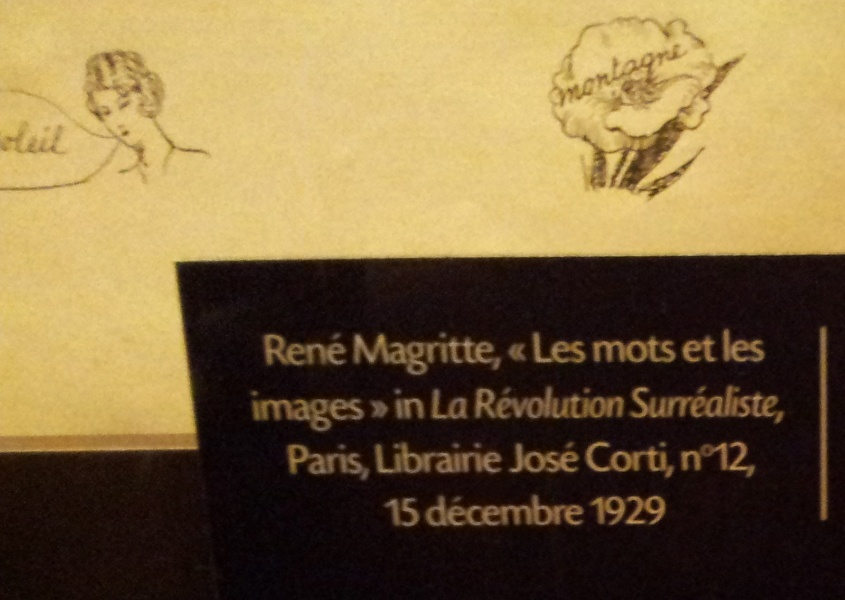text: (561, 23, 576, 124), (577, 23, 592, 124), (593, 23, 608, 124), (609, 23, 624, 124), (625, 23, 640, 124), (641, 23, 656, 124), (657, 23, 672, 124), (673, 23, 688, 124), (552, 23, 560, 124), (257, 388, 272, 441), (273, 388, 288, 441), (289, 388, 304, 441), (305, 388, 320, 441), (321, 388, 336, 441), (337, 388, 352, 441), (353, 326, 368, 377), (369, 326, 384, 377), (385, 326, 400, 377), (401, 326, 416, 377), (417, 326, 432, 377), (433, 326, 448, 377), (449, 326, 464, 377), (465, 326, 480, 377), (481, 326, 496, 377), (641, 383, 656, 428), (657, 383, 672, 428), (673, 383, 688, 428), (689, 383, 704, 428), (705, 383, 720, 428), (721, 383, 736, 428), (737, 383, 752, 428), (753, 383, 768, 428), (769, 383, 784, 428), (593, 436, 608, 479), (609, 436, 624, 479), (625, 436, 640, 479), (641, 436, 656, 479), (657, 436, 672, 479), (273, 327, 288, 368), (289, 327, 304, 368), (305, 327, 320, 368), (321, 327, 336, 368), (689, 440, 704, 481), (705, 440, 720, 481), (721, 440, 736, 481), (737, 440, 752, 481), (289, 443, 304, 482), (305, 443, 320, 482), (321, 443, 336, 482), (337, 443, 352, 482), (353, 443, 368, 482), (1, 120, 16, 159), (17, 120, 32, 159), (33, 120, 48, 159), (49, 120, 64, 159), (353, 388, 364, 441), (481, 382, 496, 420), (497, 382, 512, 420), (513, 382, 528, 420), (529, 382, 544, 420), (545, 382, 560, 420), (561, 382, 576, 420), (577, 382, 592, 420), (593, 382, 608, 420), (609, 382, 624, 420), (385, 439, 400, 476), (401, 439, 416, 476), (417, 439, 432, 476), (433, 439, 448, 476), (449, 439, 464, 476), (465, 439, 480, 476), (481, 439, 496, 476), (433, 387, 448, 423), (449, 387, 464, 423), (737, 329, 752, 365), (513, 438, 528, 474), (529, 438, 544, 474), (545, 438, 560, 474), (561, 438, 576, 474), (433, 493, 448, 529), (449, 493, 464, 529), (465, 493, 480, 529), (481, 493, 496, 529), (497, 493, 512, 529), (513, 493, 528, 529), (529, 493, 544, 529), (545, 493, 560, 529), (561, 493, 576, 529), (337, 327, 350, 368), (513, 330, 528, 365), (529, 330, 544, 365), (545, 330, 560, 365), (561, 330, 576, 365), (369, 387, 384, 421), (385, 387, 400, 421), (401, 387, 416, 421), (385, 496, 400, 530), (401, 496, 416, 530), (722, 329, 736, 365), (593, 493, 608, 526), (609, 493, 624, 526), (625, 493, 640, 526), (641, 493, 656, 526), (676, 440, 688, 481), (581, 436, 592, 479), (65, 120, 77, 159), (593, 334, 608, 365), (609, 334, 624, 365), (625, 334, 640, 365), (641, 334, 656, 365), (657, 334, 672, 365), (261, 327, 272, 368), (630, 383, 640, 428), (689, 335, 704, 364), (753, 329, 765, 365), (248, 388, 256, 441), (705, 335, 719, 364), (657, 493, 669, 526), (497, 439, 507, 476), (577, 493, 587, 529), (497, 326, 504, 377), (577, 330, 587, 365), (375, 439, 384, 476), (369, 443, 377, 482), (424, 493, 432, 529), (753, 440, 760, 481), (673, 436, 679, 479), (577, 438, 584, 474), (417, 387, 424, 421), (785, 383, 790, 428), (506, 330, 512, 365), (681, 335, 688, 364), (475, 382, 480, 420), (507, 438, 512, 474), (284, 443, 288, 482), (465, 387, 469, 423), (381, 496, 384, 530), (417, 496, 420, 530), (689, 23, 690, 124), (430, 387, 432, 423), (590, 493, 592, 526), (673, 334, 675, 365), (351, 326, 352, 377), (625, 382, 626, 420), (591, 334, 592, 365)
